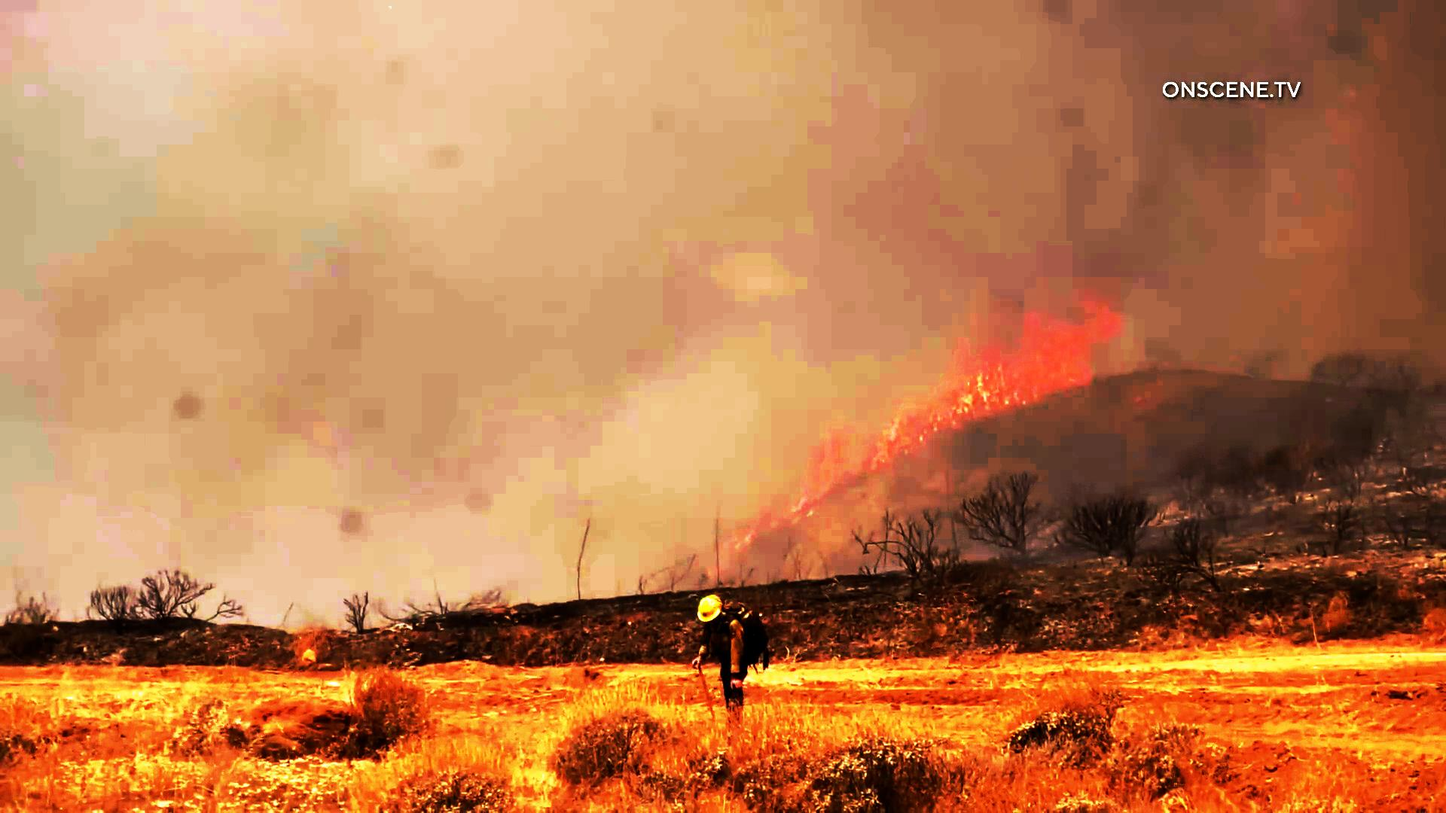fire: (888, 296, 1096, 454)
smoke: (191, 25, 844, 395)
